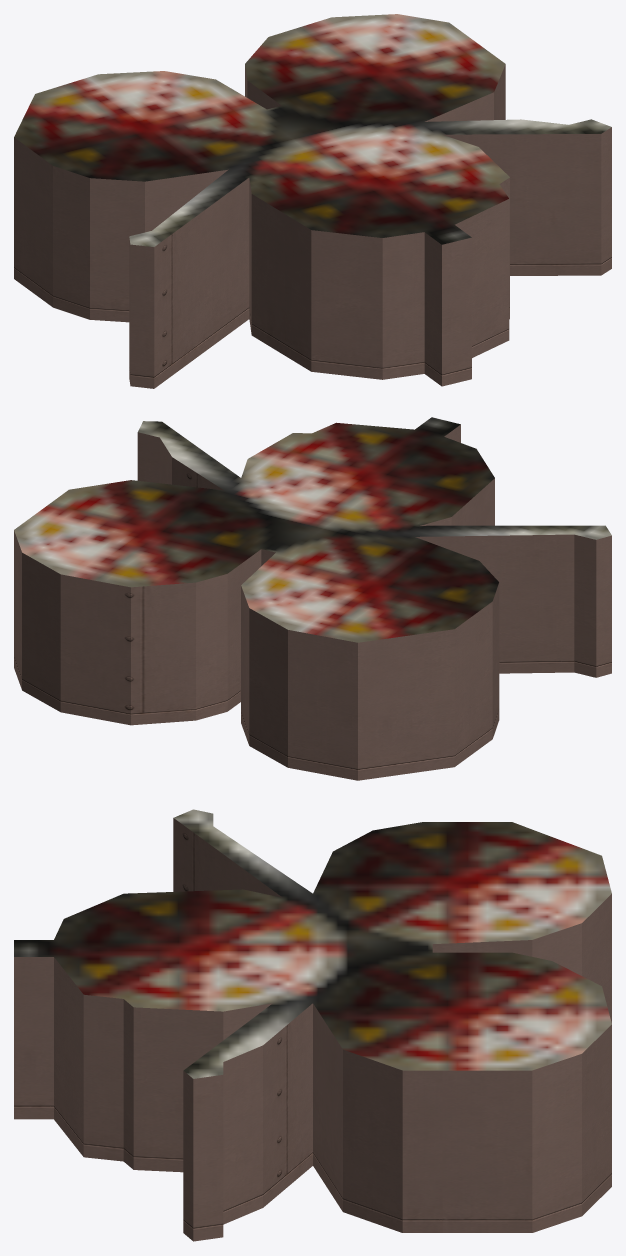
Rendered from fuel_tank_heavy_28.glb.
The picture shows the model from 3 angles, top to bottom: view 1: azimuth 30°, elevation 25°; view 2: azimuth 150°, elevation 25°; view 3: azimuth 270°, elevation 25°; orthographic projection. The views are drawn at different scales.
Visible parts, largest first — view 1: buildings/saxarba/fuel_tanks/fuel_tank_heavy_28; view 2: buildings/saxarba/fuel_tanks/fuel_tank_heavy_28; view 3: buildings/saxarba/fuel_tanks/fuel_tank_heavy_28.
Boxes of the visible parts, box(x1,y1,x2,y2) form: buildings/saxarba/fuel_tanks/fuel_tank_heavy_28: box(14, 14, 611, 388); buildings/saxarba/fuel_tanks/fuel_tank_heavy_28: box(14, 417, 611, 780); buildings/saxarba/fuel_tanks/fuel_tank_heavy_28: box(14, 809, 611, 1241).
Size of the model in its own units: 64 by 18 by 60.
